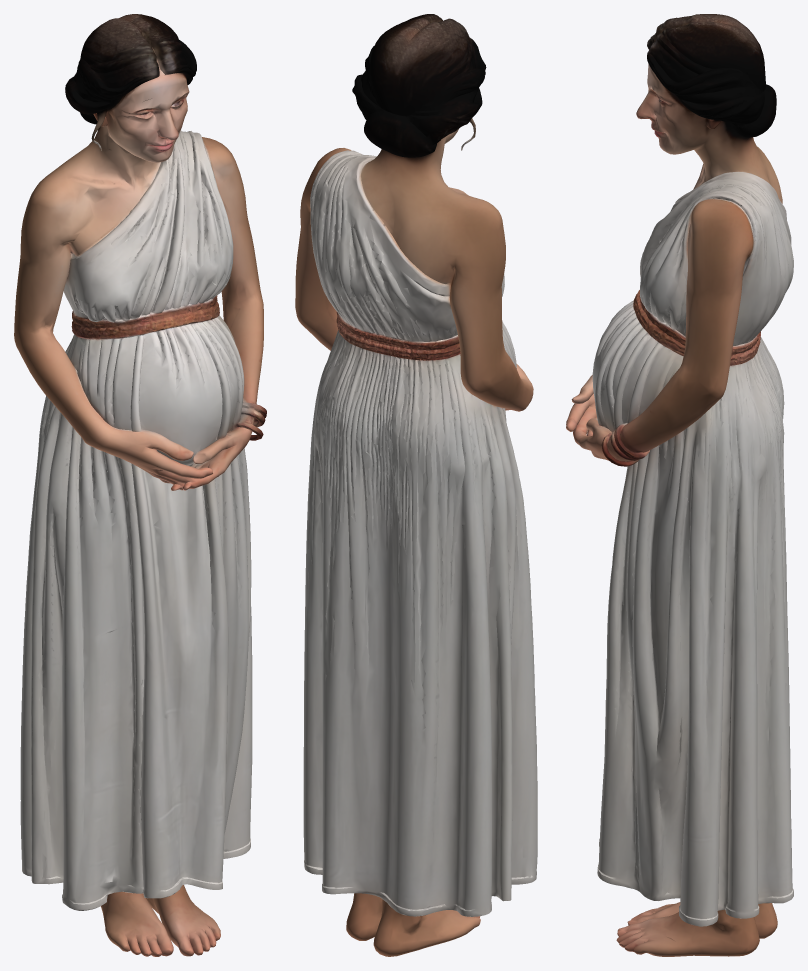
The model's file is crowd_pregnant_woman_rodin_source.glb.
3 renders of one model, left to right at view 1: azimuth 30°, elevation 25°; view 2: azimuth 150°, elevation 25°; view 3: azimuth 270°, elevation 25°, orthographic.
Parts seen in each view (by area): view 1: model; view 2: model; view 3: model.
Boxes of the visible parts, box(x1,y1,x2,y2) form: model: box(14, 14, 266, 956); model: box(295, 14, 537, 956); model: box(566, 14, 793, 956).
Bounding box in the file's own units: 0.4863 × 1.9 × 0.4291.
1 material, 1 textured.
